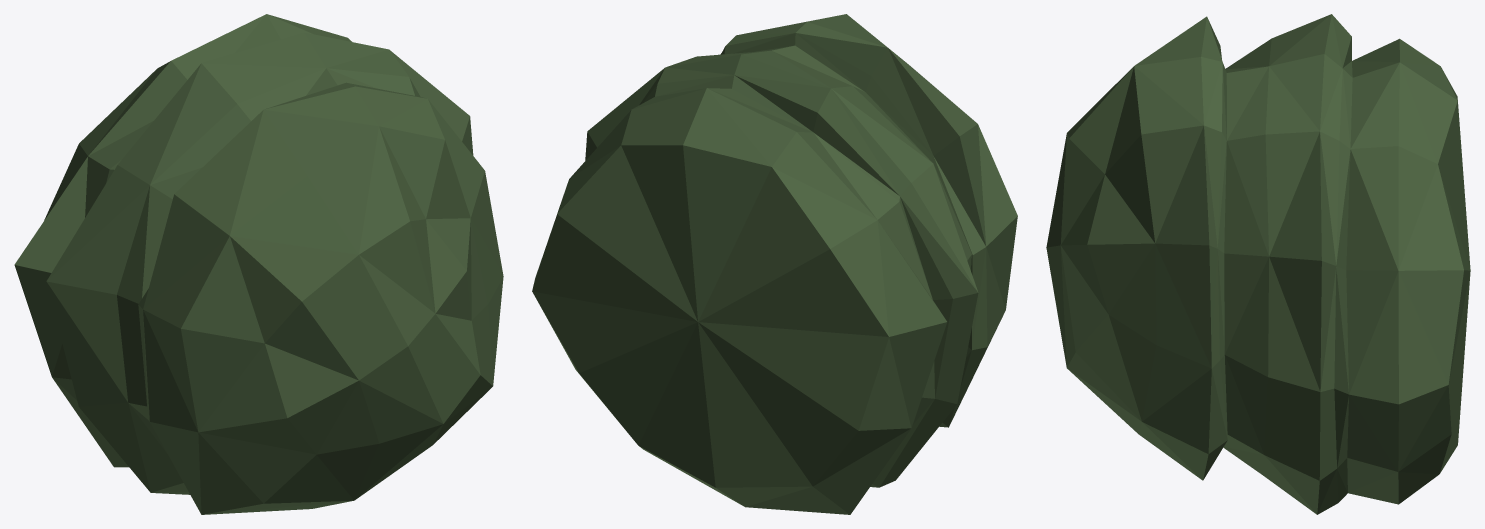
The model's file is shrub-round-2.obj.
3 renders of one model, left to right at view 1: azimuth 30°, elevation 25°; view 2: azimuth 150°, elevation 25°; view 3: azimuth 270°, elevation 25°, orthographic. The views are drawn at different scales.
Parts seen in each view (by area): view 1: shrub-round-2; view 2: shrub-round-2; view 3: shrub-round-2.
Boxes of the visible parts, x1,y1,x2,y2 form: shrub-round-2: (14,14,503,514); shrub-round-2: (532,14,1017,514); shrub-round-2: (1046,14,1470,514).
Size of the model in its own units: 50.9 by 50.22 by 42.
